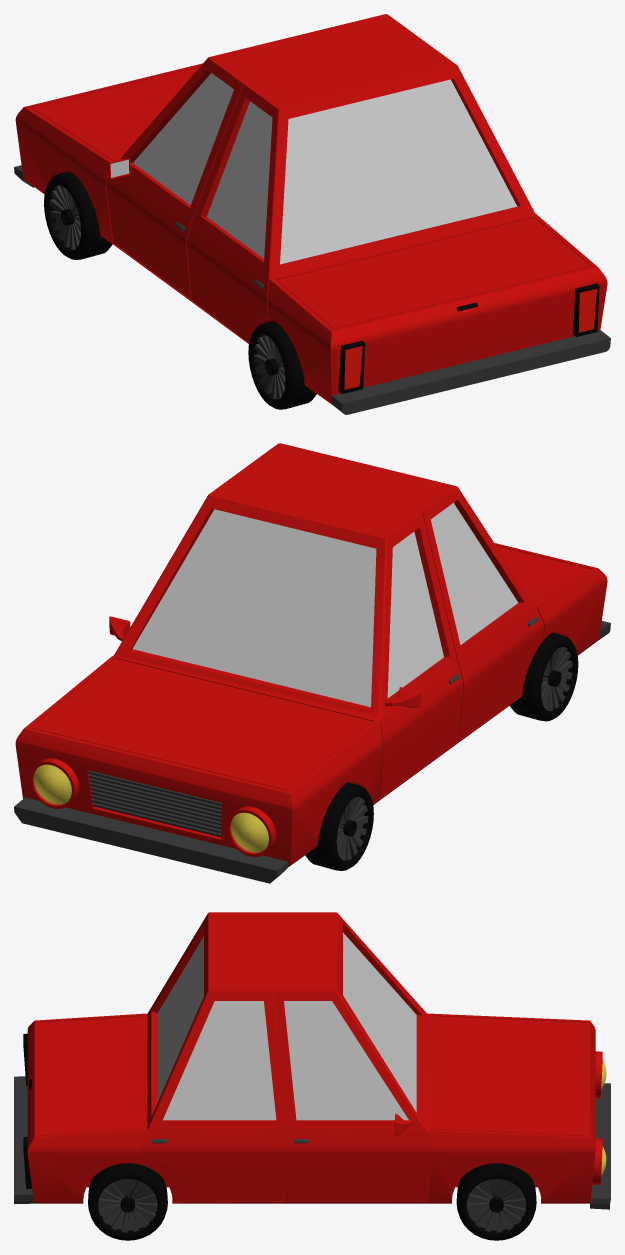
Rendered from Car_Low_Poly.obj.
3 renders of one model, top to bottom at view 1: azimuth 30°, elevation 25°; view 2: azimuth 150°, elevation 25°; view 3: azimuth 270°, elevation 25°, orthographic. The views are drawn at different scales.
Parts seen in each view (by area): view 1: BoodyCar, BackCrash, BackWhiles, While-L-F, LightBack; view 2: BoodyCar, FrontCrash, LightFront, BackWhiles, While-L-F, Mirror; view 3: BoodyCar, BackWhiles, While-R-F, BackCrash, FrontCrash, LightFront, LightBack.
Part boxes in pixels (left/top/right/bottom): BoodyCar: left=15, top=14, right=607, bottom=404; BackCrash: left=331, top=330, right=610, bottom=414; BackWhiles: left=248, top=321, right=316, bottom=409; While-L-F: left=44, top=171, right=112, bottom=259; LightBack: left=338, top=283, right=599, bottom=394; BoodyCar: left=15, top=443, right=607, bottom=866; FrontCrash: left=14, top=797, right=288, bottom=883; LightFront: left=29, top=758, right=276, bottom=857; BackWhiles: left=510, top=632, right=578, bottom=721; While-L-F: left=305, top=782, right=373, bottom=870; Mirror: left=109, top=616, right=420, bottom=707; BoodyCar: left=27, top=912, right=595, bottom=1203; BackWhiles: left=88, top=1163, right=167, bottom=1240; While-R-F: left=456, top=1163, right=536, bottom=1240; BackCrash: left=14, top=1076, right=34, bottom=1204; FrontCrash: left=590, top=1083, right=610, bottom=1209; LightFront: left=592, top=1051, right=606, bottom=1185; LightBack: left=23, top=1033, right=32, bottom=1189.
Bounding box in the file's own units: 4.89 × 3.79 × 9.03.
